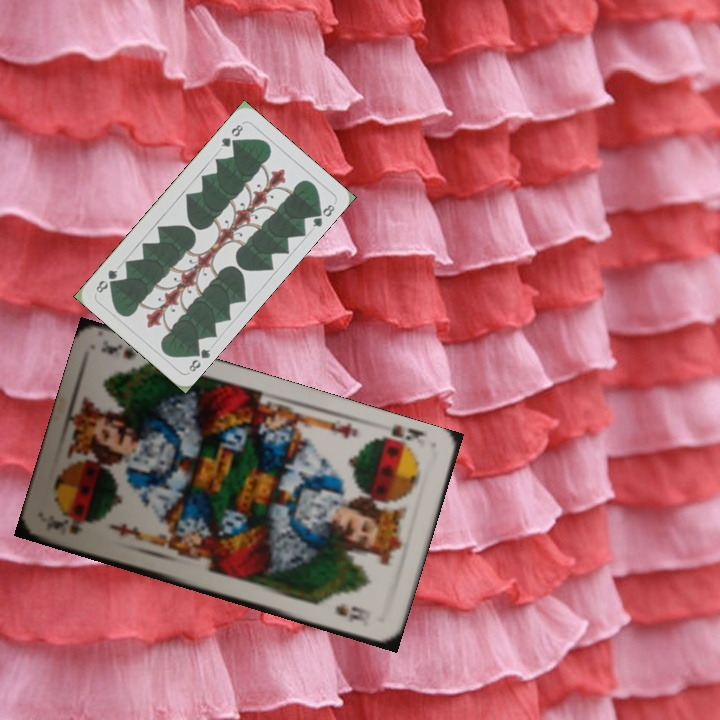G8: (185, 343, 213, 375), (217, 120, 246, 150)
SK: (373, 420, 430, 451), (49, 516, 85, 537)
